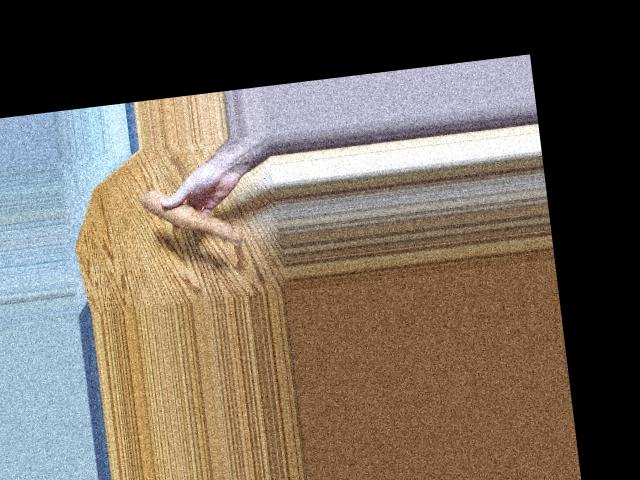sweet_potato: (129, 184, 241, 248)
